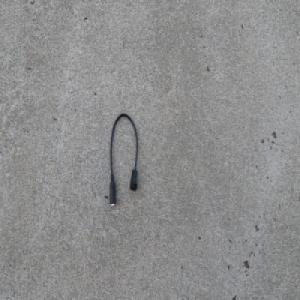Wire: (108, 109, 139, 208)
